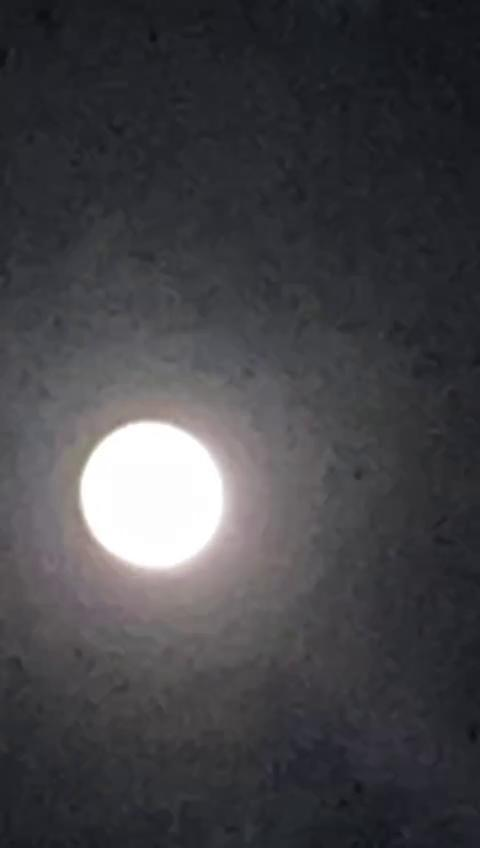moon: (99, 433, 266, 624)
